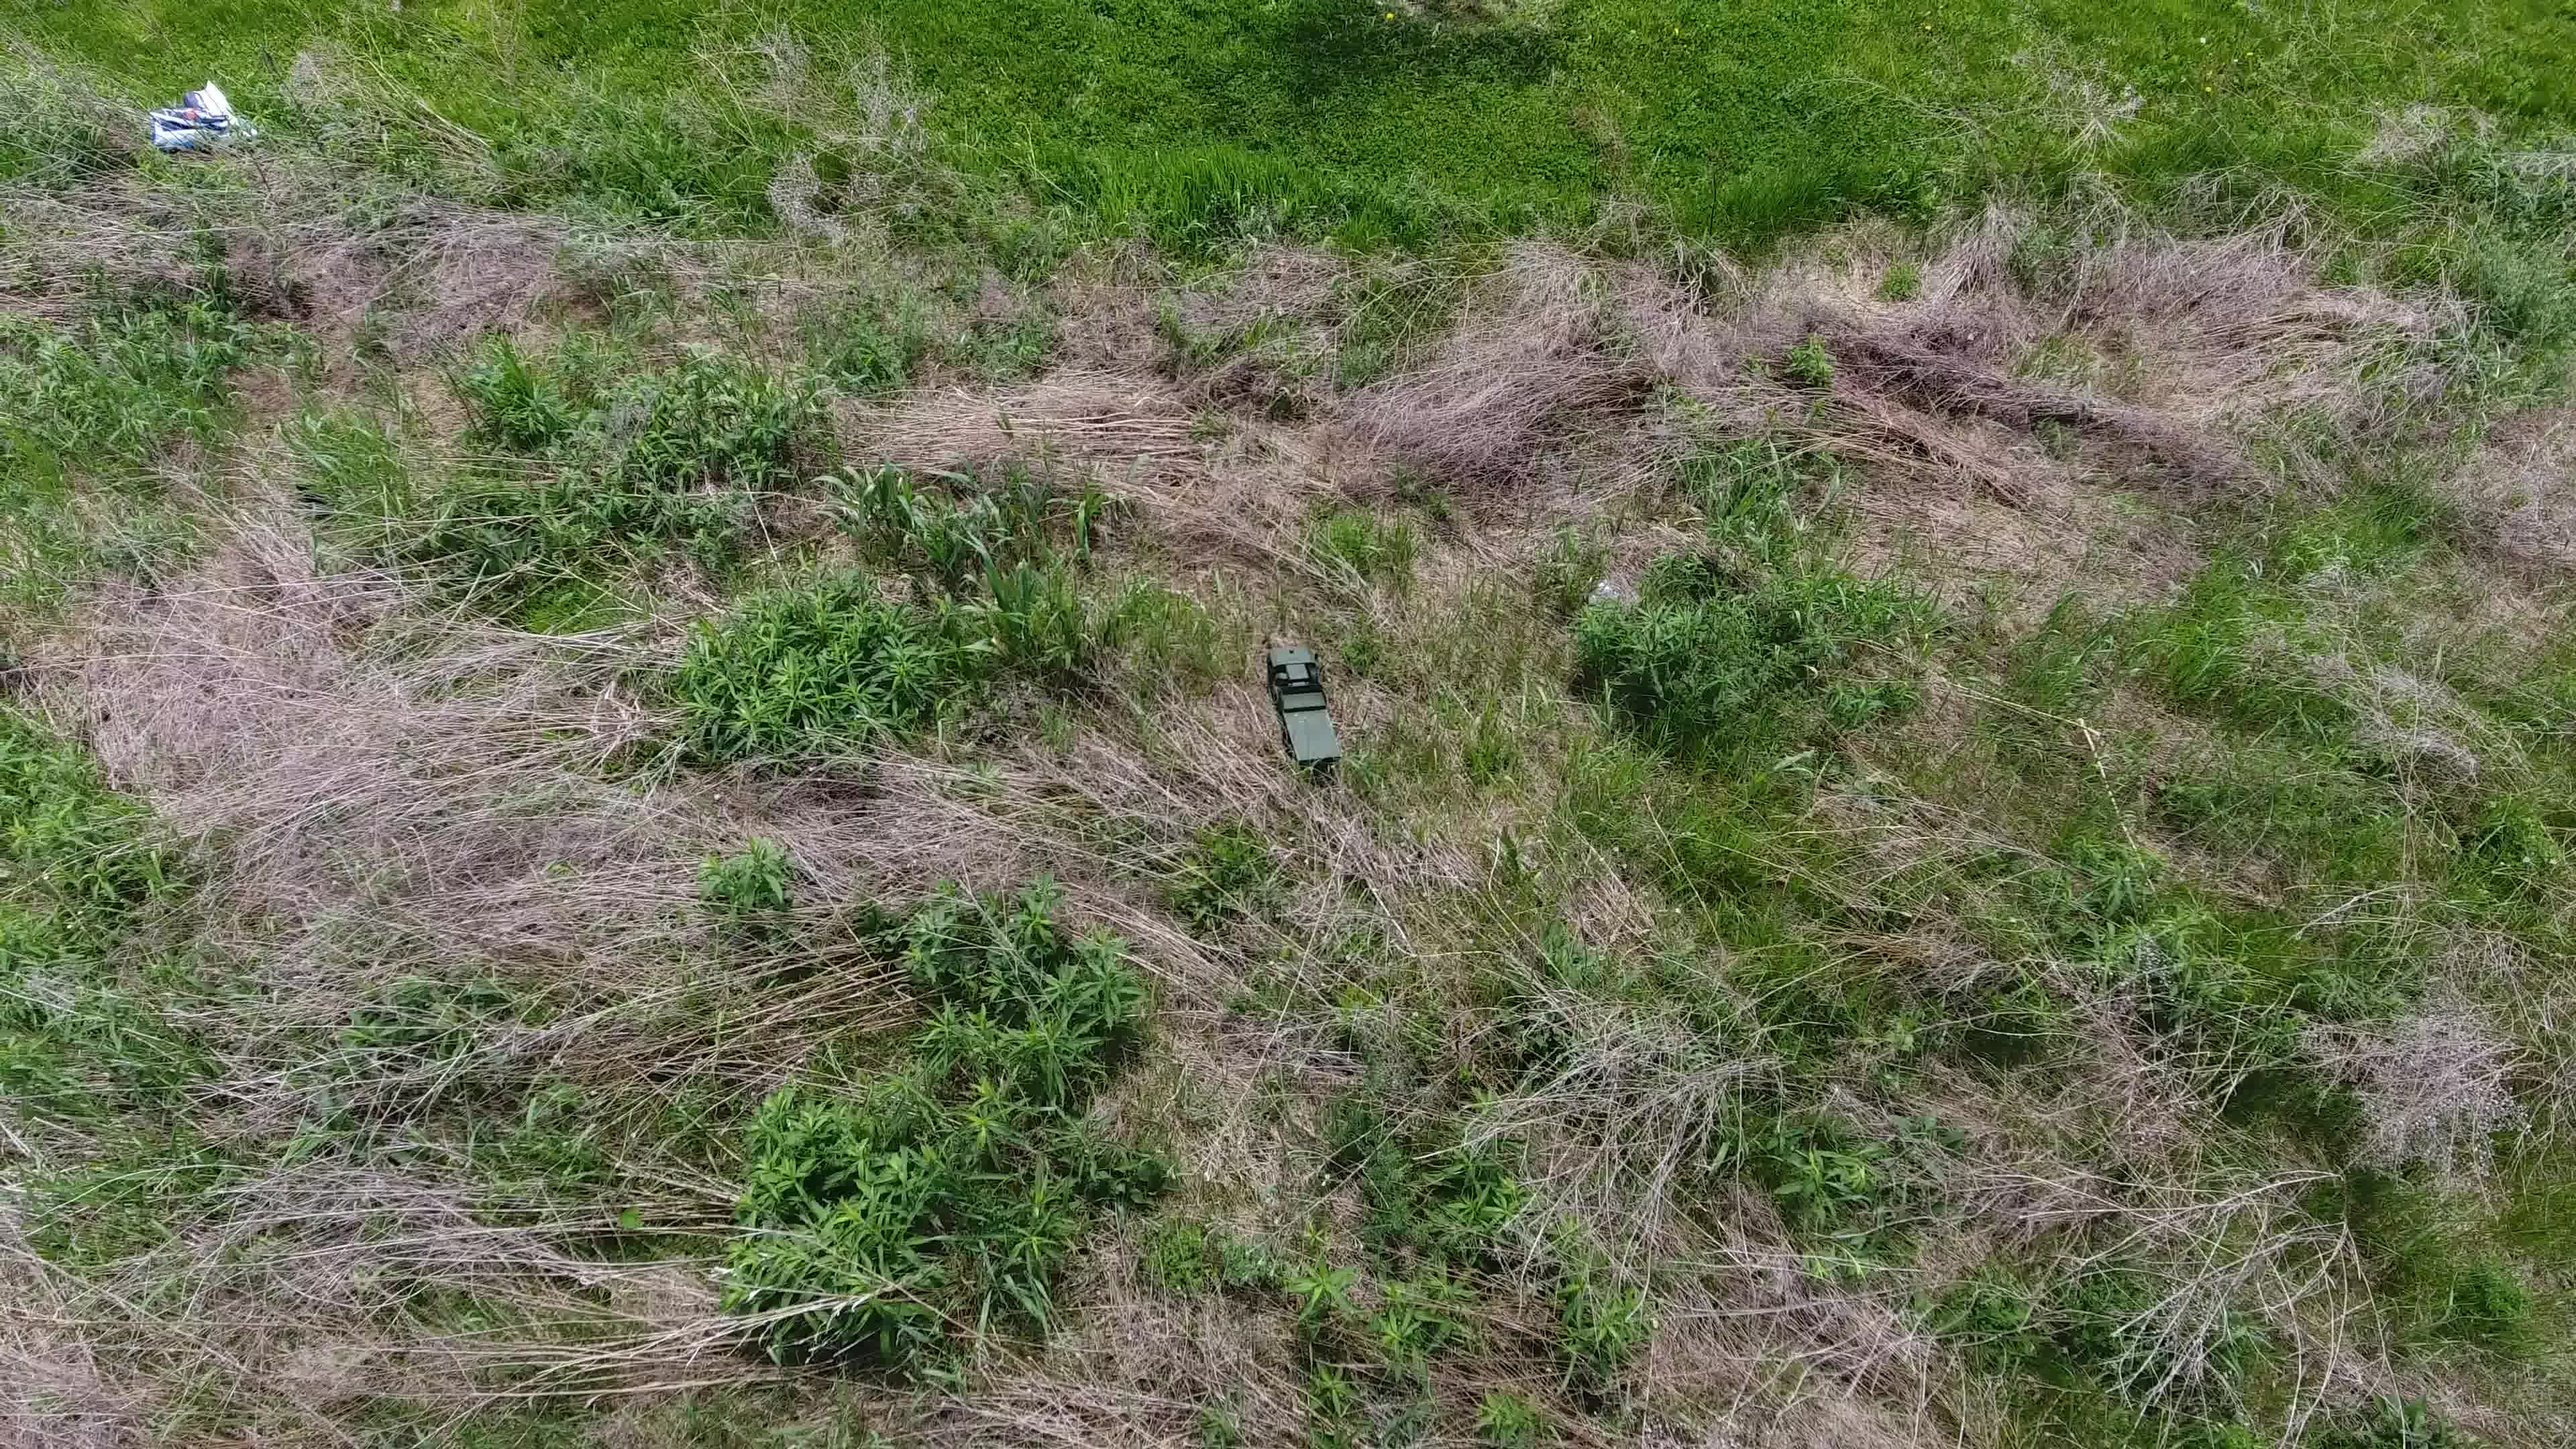transporter9: (1263, 642, 1345, 770)
